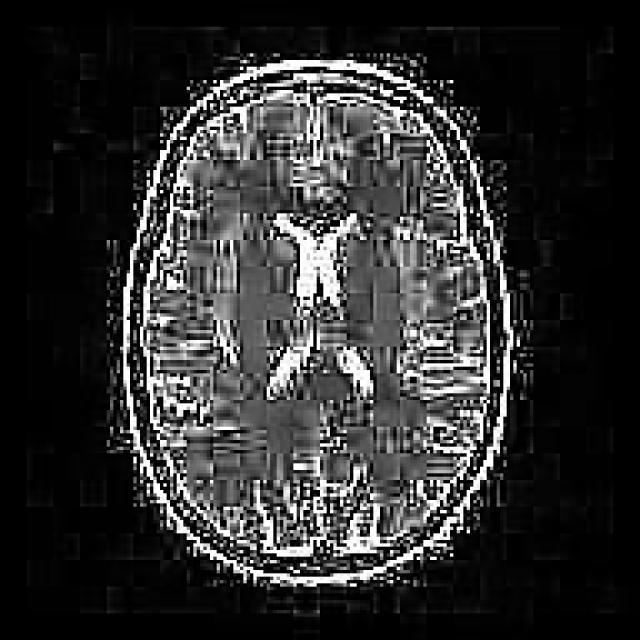notumor: (120, 60, 513, 583)
